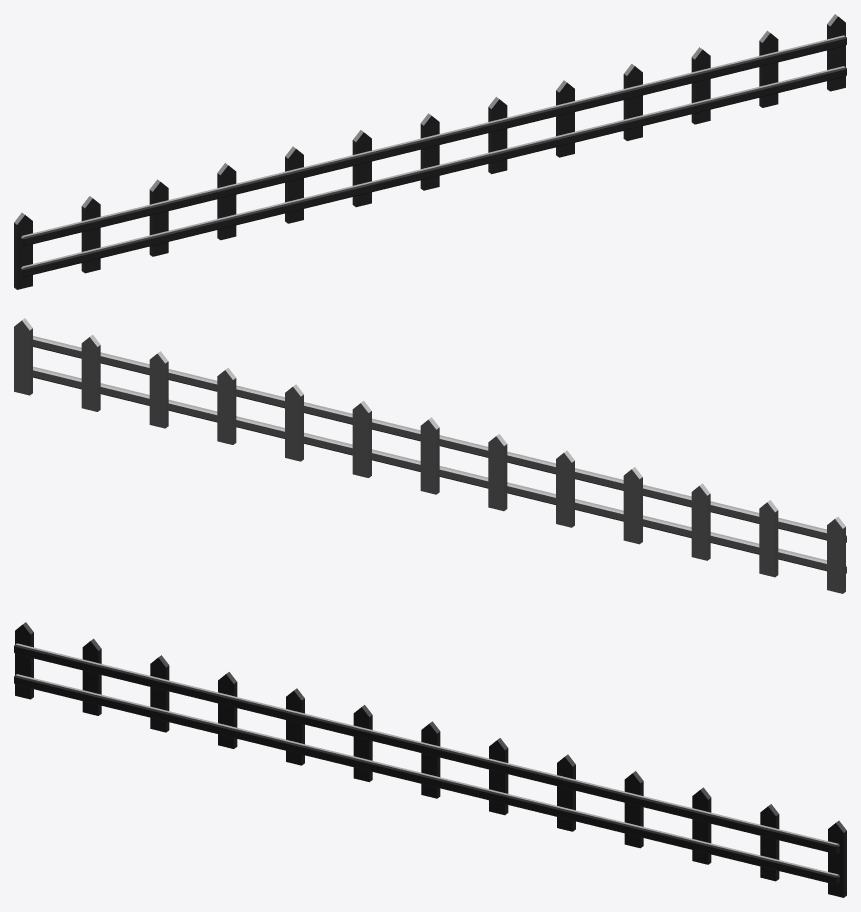
Rendered from fence.obj.
The picture shows the model from 3 angles, top to bottom: view 1: azimuth 30°, elevation 25°; view 2: azimuth 150°, elevation 25°; view 3: azimuth 330°, elevation 25°; orthographic projection.
Parts seen in each view (by area): view 1: fence; view 2: fence; view 3: fence.
Boxes of the visible parts, x1=… form: fence: x1=14, y1=14, x2=846, y2=289; fence: x1=14, y1=318, x2=846, y2=593; fence: x1=14, y1=622, x2=846, y2=897.
Size of the model in its own units: 7.34 by 0.62 by 0.11.
Materials: 1 (1 with a texture image).
